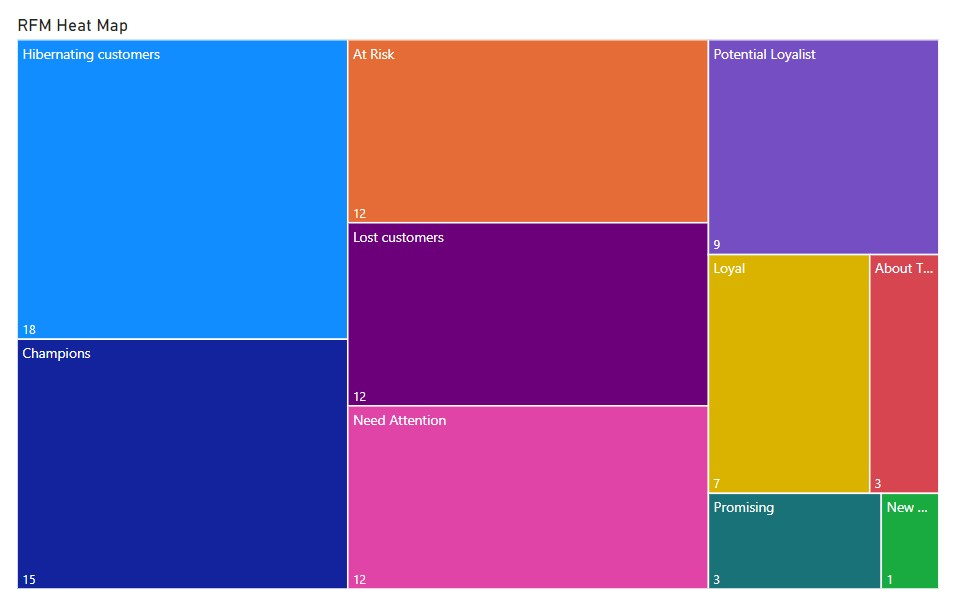

The page's visual inventory and layout, read from the dashboard file:
{"tool":"powerbi","page":{"name":"Page 1","canvas":[1280,720],"ordinal":0},"visuals":[{"type":"treemap","title":"RFM Heat Map","fields":{"Group":["rfm_data.segment"],"Values":["Sum(rfm_data.count)"]},"box":[186.7,77.8,906.5,563.2],"z":0}]}

Visuals, with their boxes on the page's 1280x720 design canvas (x1, y1, x2, y2). These are canvas units, not pixel positions in the 960x605 screenshot, which may show the page scaled, cropped or inside an application window:
"RFM Heat Map" treemap: pyautogui.locateOnScreen(187, 78, 1093, 641)
